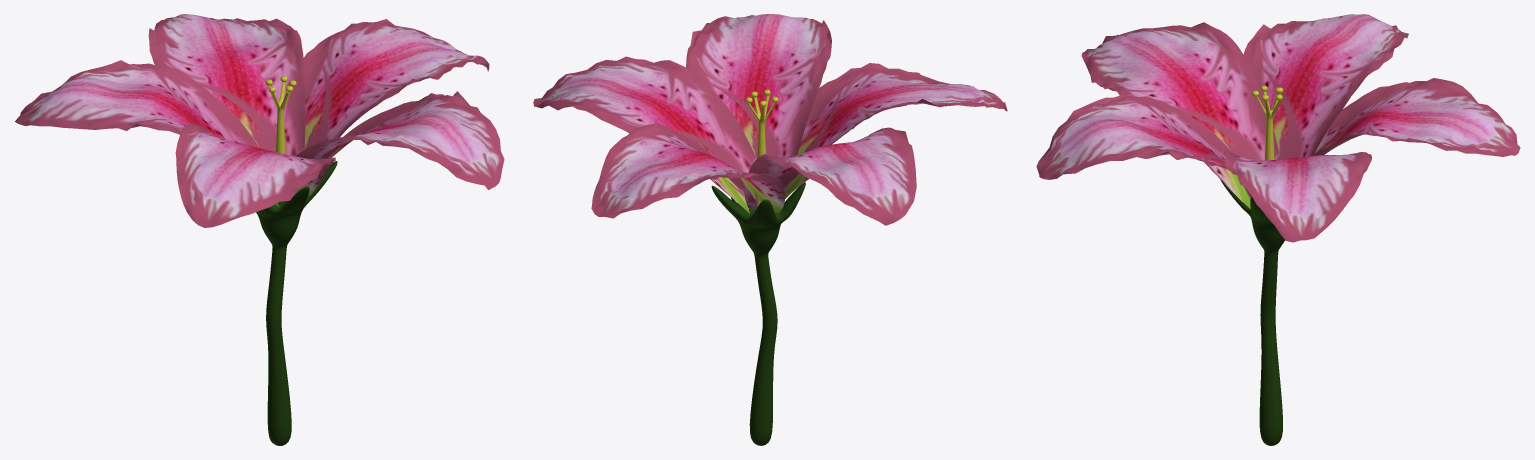
Rendered from flower.glb.
The picture shows the model from 3 angles, left to right: view 1: azimuth 30°, elevation 25°; view 2: azimuth 150°, elevation 25°; view 3: azimuth 270°, elevation 25°; orthographic projection. The views are drawn at different scales.
Visible parts, largest first — view 1: Cylinder.001; view 2: Cylinder.001; view 3: Cylinder.001.
Part boxes in pixels (bbox=[...]): Cylinder.001: bbox=[14, 14, 504, 445]; Cylinder.001: bbox=[533, 14, 1007, 445]; Cylinder.001: bbox=[1036, 14, 1520, 445].
Size of the model in its own units: 5.85 by 4.82 by 5.89.
3 materials, 2 textured.
